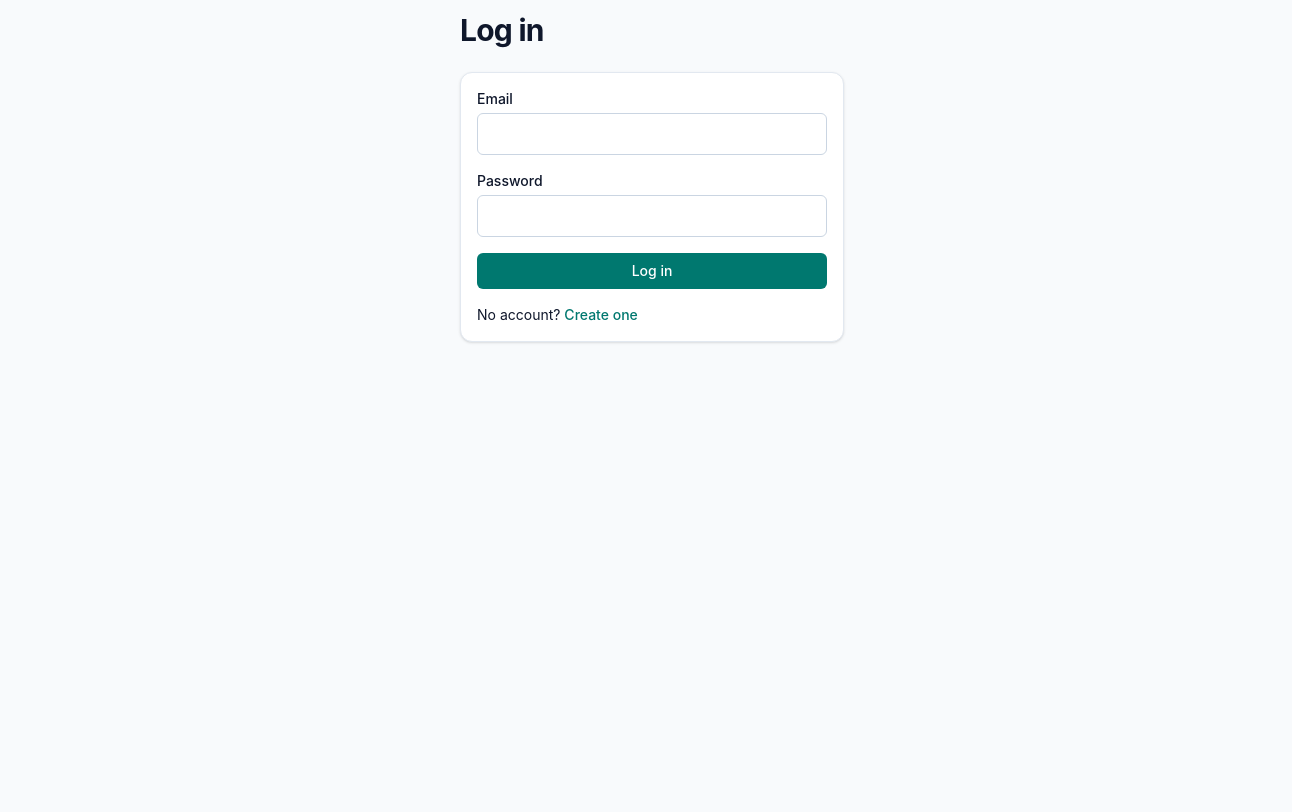
it: auth flow › logs in and lands on the account page
In the field labelled "Email": (652, 134) [477,113,827,155], type "ada@example.org"
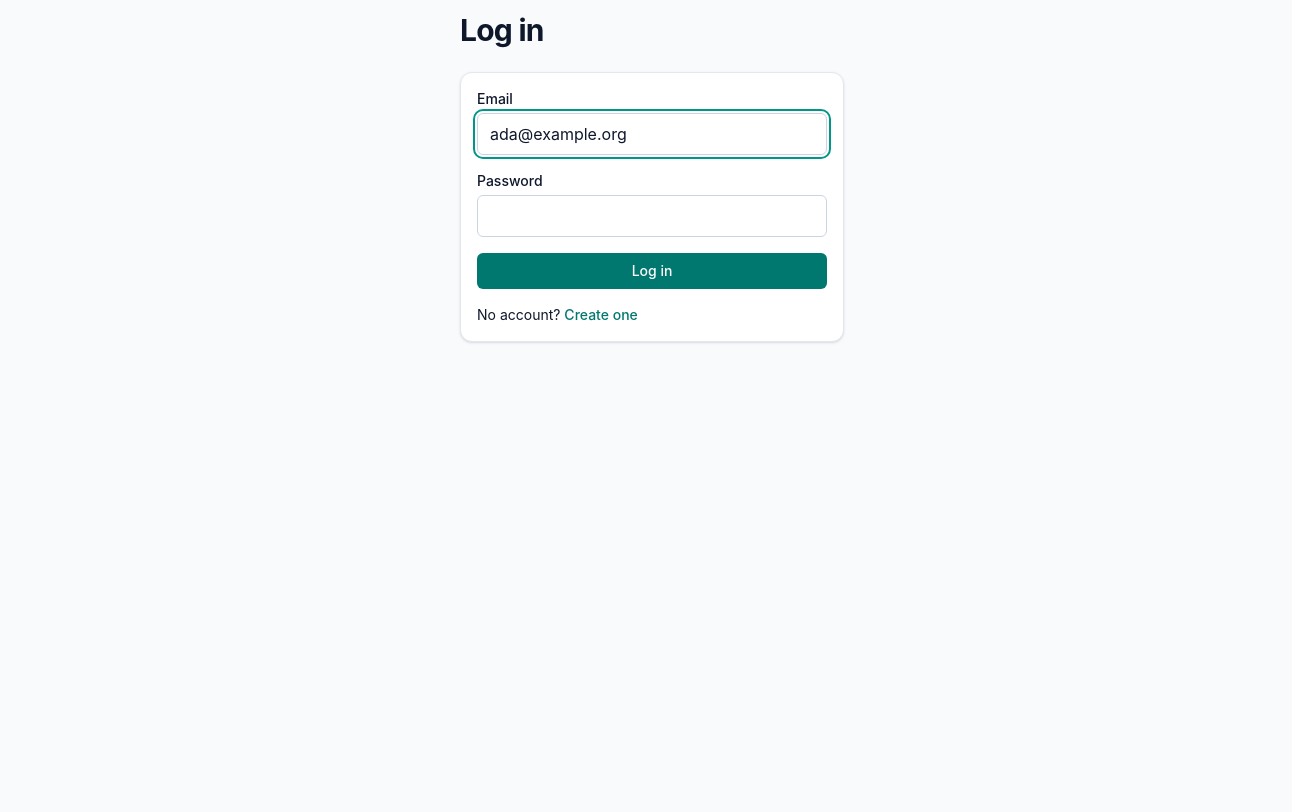
In the password field labelled "Password": (652, 216) [477,195,827,237], type "correct horse battery"
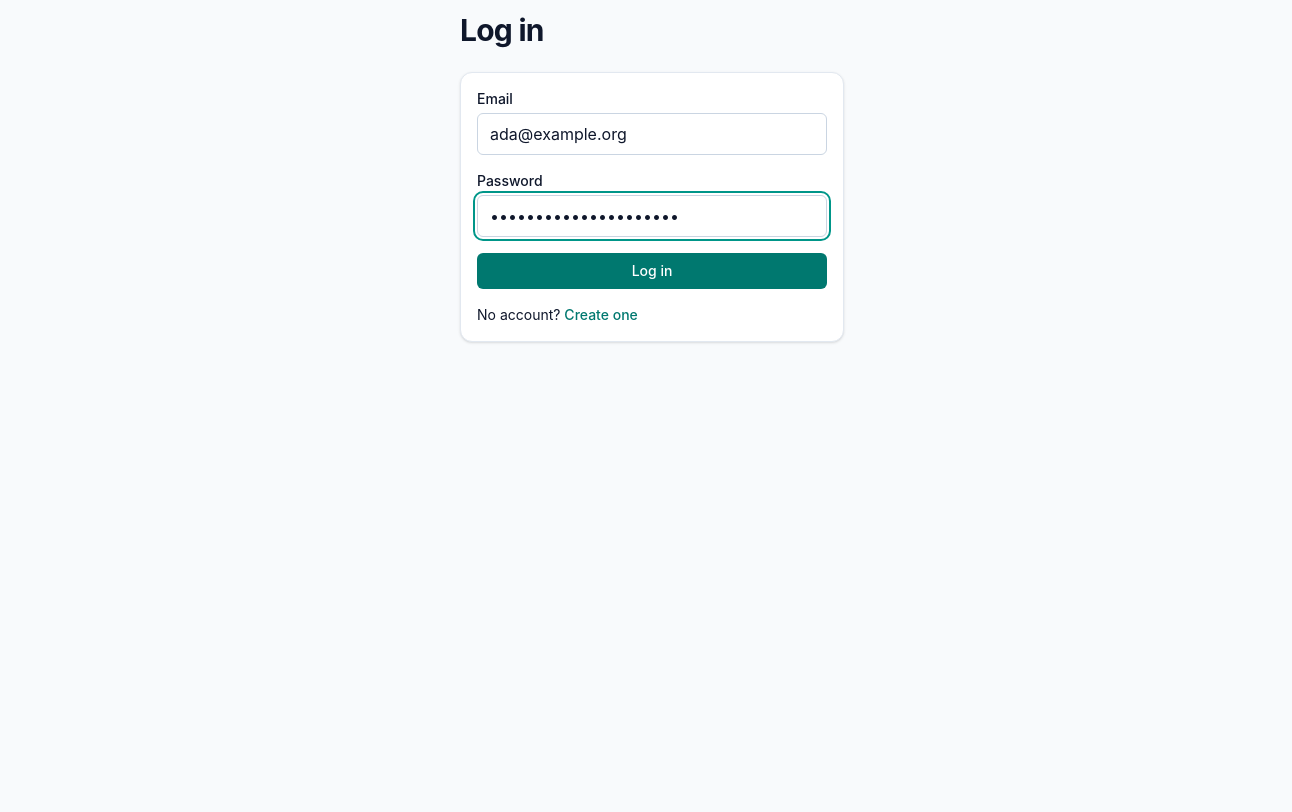
Click the button "Log in": (652, 271) [477,253,827,289]
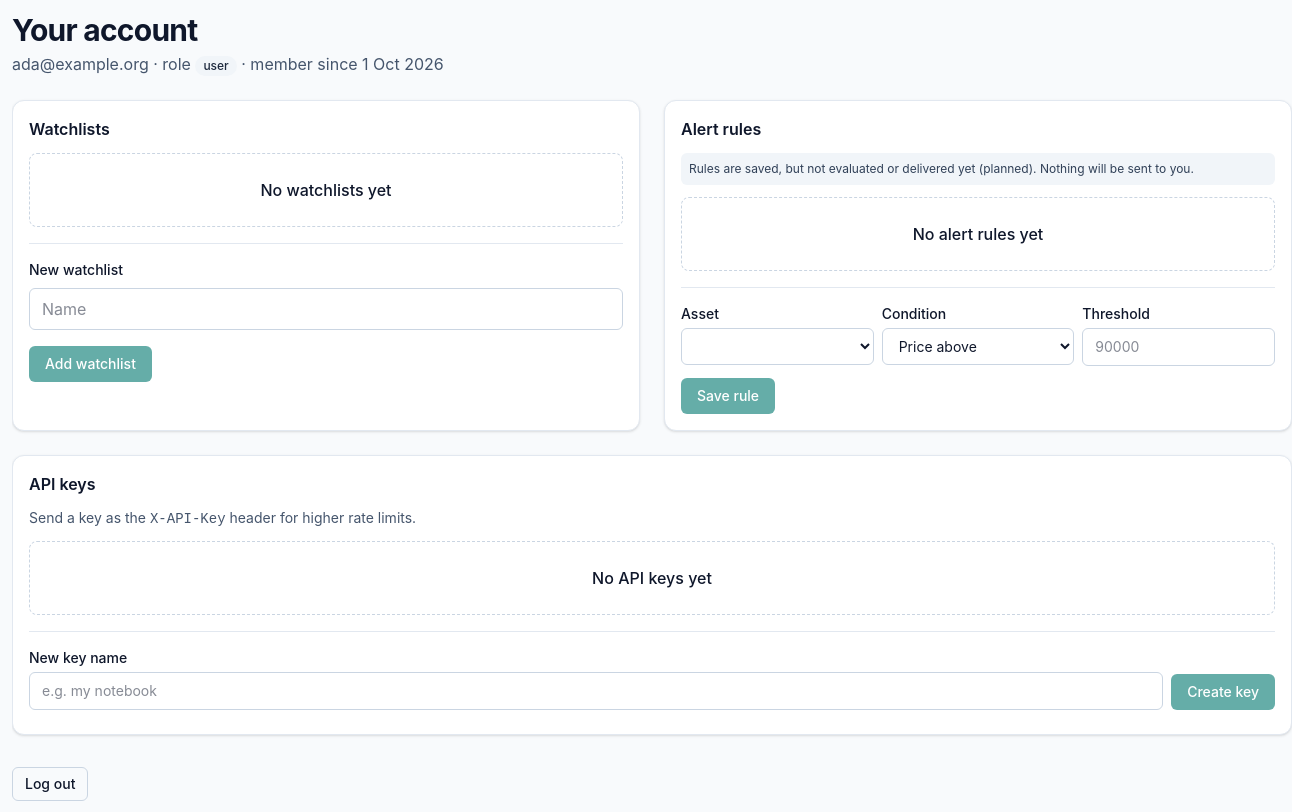
Result: the text "ada@example.org · role user · member since 1 Oct 2026" is shown at [12,54,444,76]
Result: the text "No watchlists yet" is shown at [260,180,392,200]
